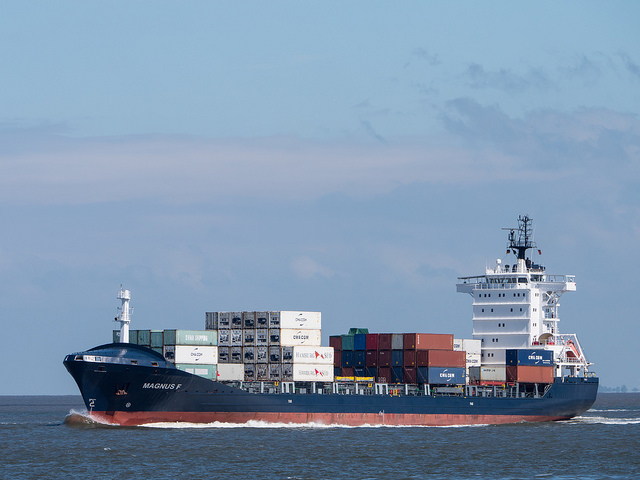container_ship: (67, 203, 601, 428)
